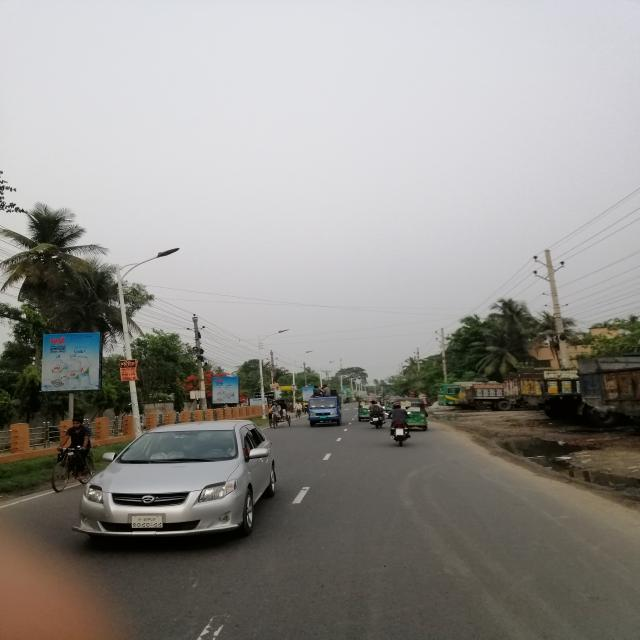Car: (74, 419, 291, 557)
